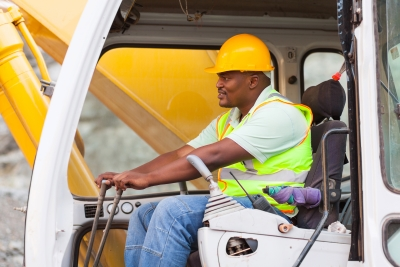crane-operator: (195, 29, 303, 165)
